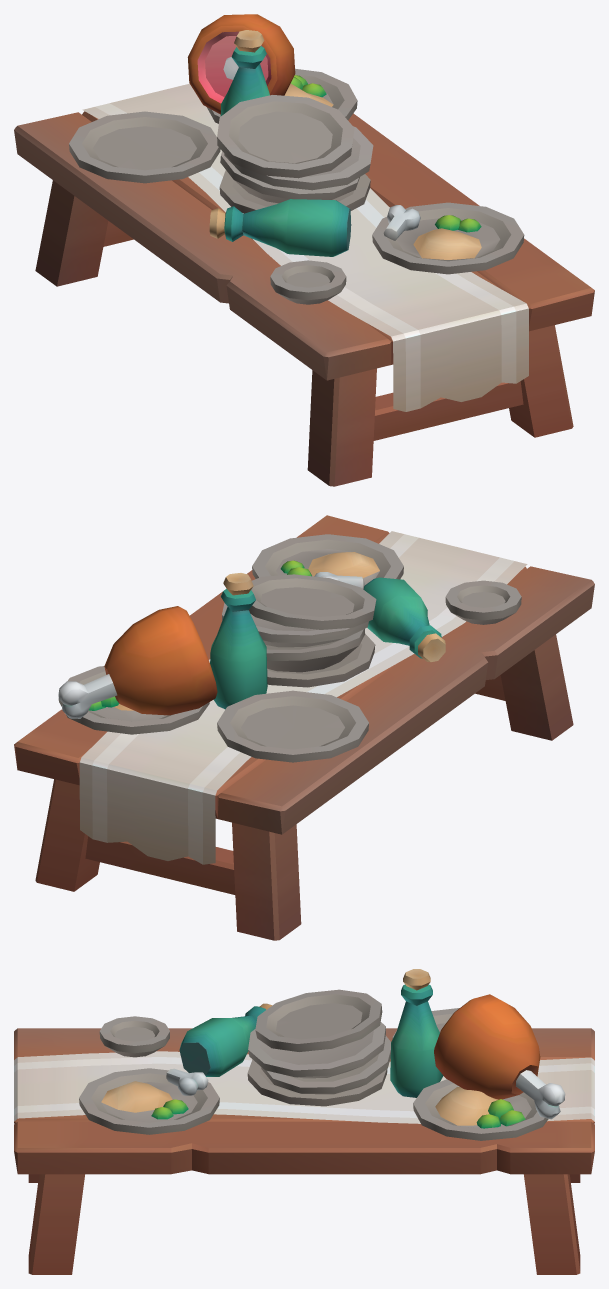
The model's file is kay-mesa-banquete-toalha.gltf.
3 views of the same model, one above another, from view 1: azimuth 30°, elevation 25°; view 2: azimuth 150°, elevation 25°; view 3: azimuth 270°, elevation 25° (orthographic). The views are drawn at different scales.
Parts seen in each view (by area): view 1: table_long_tablecloth_decorated_A; view 2: table_long_tablecloth_decorated_A; view 3: table_long_tablecloth_decorated_A.
Part boxes in pixels (x1,y1,x2,y2): table_long_tablecloth_decorated_A: (14,14,594,486); table_long_tablecloth_decorated_A: (14,515,594,940); table_long_tablecloth_decorated_A: (14,969,594,1274).
Bounding box in the file's own units: 1.34 × 1.23 × 2.6.
Materials: 1 (1 with a texture image).
